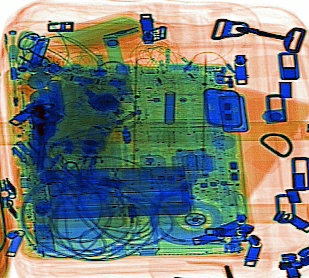powerbank: (43, 162, 194, 220)
